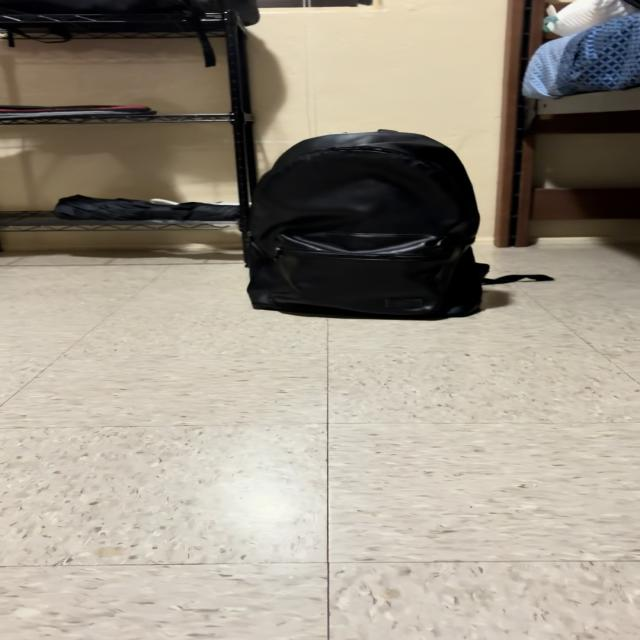backpack: (247, 131, 551, 317), (0, 0, 259, 67), (0, 0, 259, 25), (47, 20, 72, 42), (45, 38, 55, 42)
